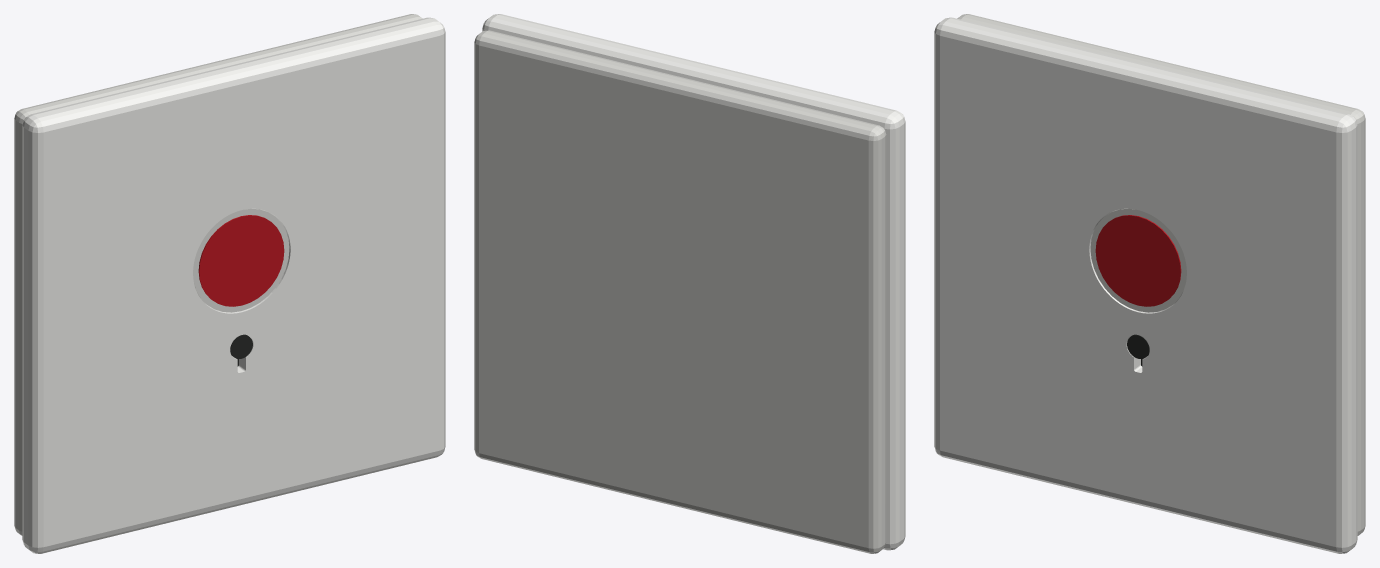
File: bell.glb
The picture shows the model from 3 angles, left to right: view 1: azimuth 30°, elevation 25°; view 2: azimuth 150°, elevation 25°; view 3: azimuth 330°, elevation 25°; orthographic projection.
Visible parts, largest first — view 1: bell:face, bell:rear-plate, bell:red-call-button, bell:call-surround; view 2: bell:rear-plate, bell:face; view 3: bell:face, bell:rear-plate, bell:red-call-button, bell:call-surround.
Boxes of the visible parts, x1=… form: bell:face: x1=22, y1=17, x2=445, y2=553; bell:rear-plate: x1=14, y1=14, x2=422, y2=535; bell:red-call-button: x1=198, y1=215, x2=284, y2=306; bell:call-surround: x1=193, y1=208, x2=289, y2=312; bell:rear-plate: x1=474, y1=30, x2=886, y2=553; bell:face: x1=482, y1=14, x2=905, y2=550; bell:face: x1=934, y1=17, x2=1357, y2=553; bell:rear-plate: x1=957, y1=14, x2=1365, y2=535; bell:red-call-button: x1=1095, y1=215, x2=1181, y2=306; bell:call-surround: x1=1090, y1=208, x2=1186, y2=312.
Bounding box in the file's own units: 0.086 × 0.086 × 0.01.
